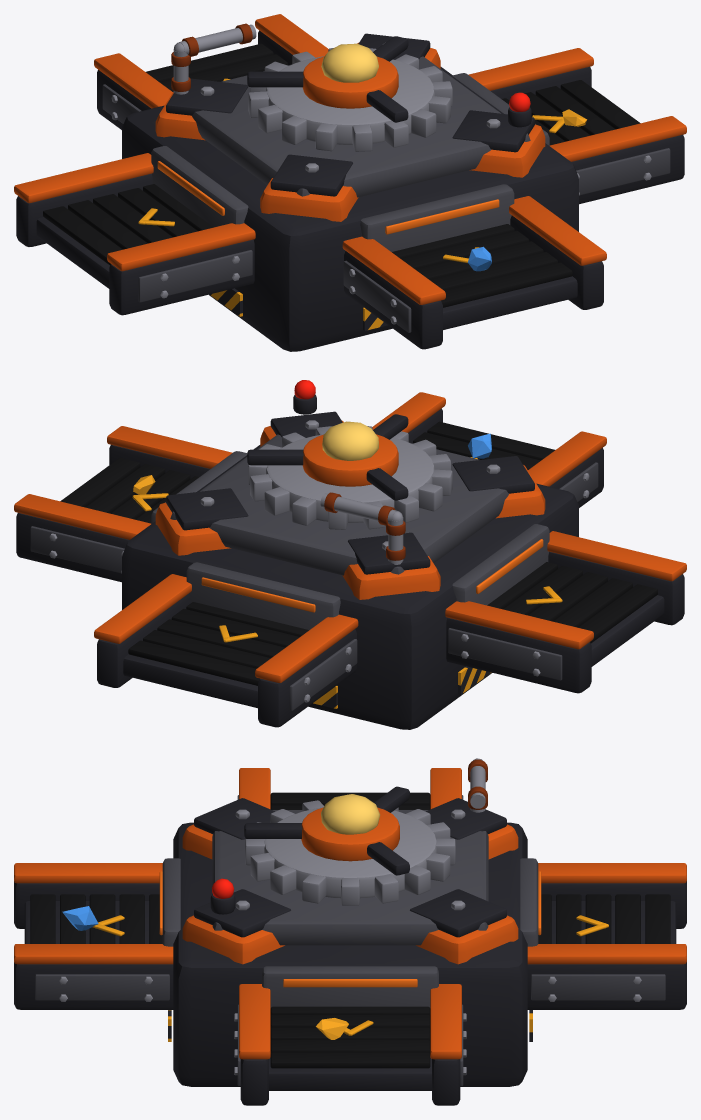
File: Splitter.obj
The picture shows the model from 3 angles, top to bottom: view 1: azimuth 30°, elevation 25°; view 2: azimuth 150°, elevation 25°; view 3: azimuth 270°, elevation 25°; orthographic projection. The views are drawn at different scales.
Visible parts, largest first — view 1: Splitter; view 2: Splitter; view 3: Splitter.
Part boxes in pixels (left/top/right/bottom): Splitter: left=14, top=14, right=686, bottom=351; Splitter: left=14, top=380, right=686, bottom=729; Splitter: left=14, top=758, right=686, bottom=1105.
Bounding box in the file's own units: 1.9 × 0.6885 × 1.9.
